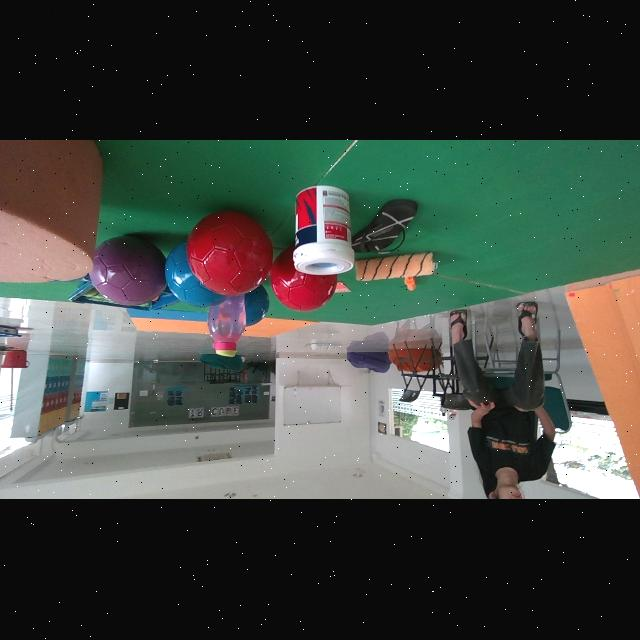B: (164, 243, 226, 308), (245, 286, 269, 327)
P: (90, 236, 167, 306)
R: (187, 211, 273, 297), (270, 246, 337, 312)
